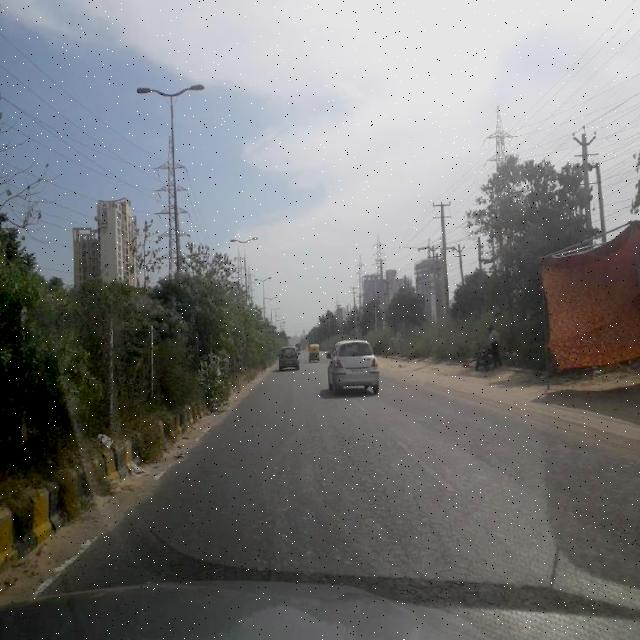D20: (125, 401, 640, 575)
D44: (393, 432, 458, 487)
